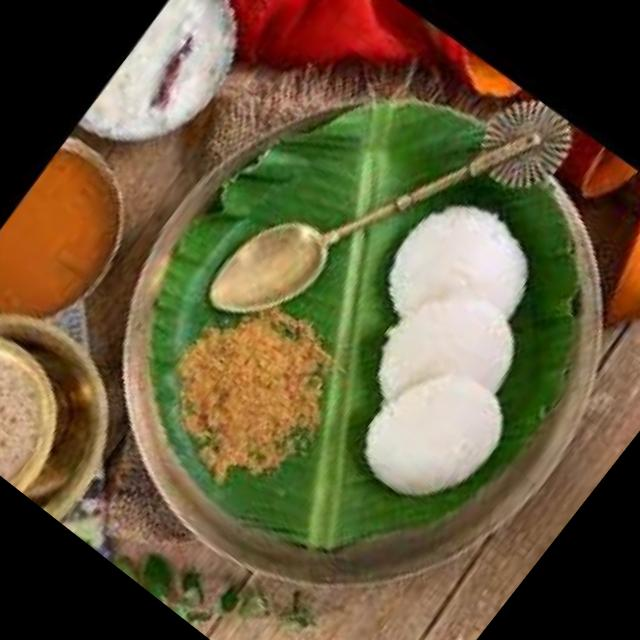idli: (366, 178, 555, 368), (356, 260, 539, 448), (346, 342, 524, 524)
